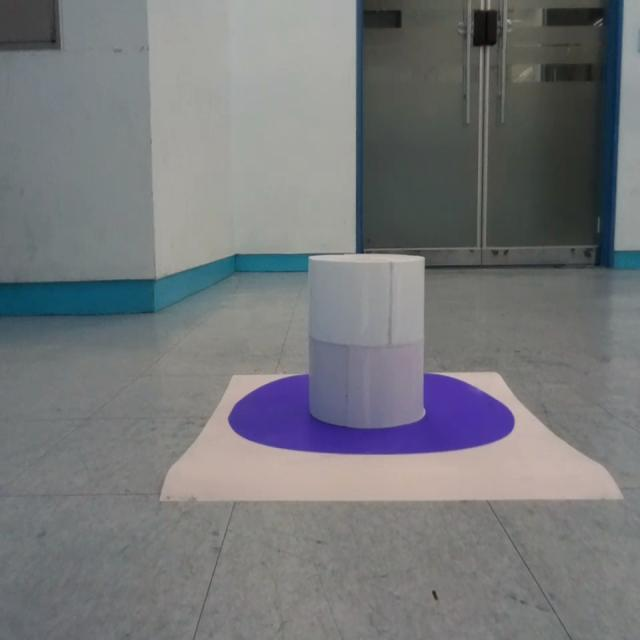cylinder: (307, 254, 427, 431)
